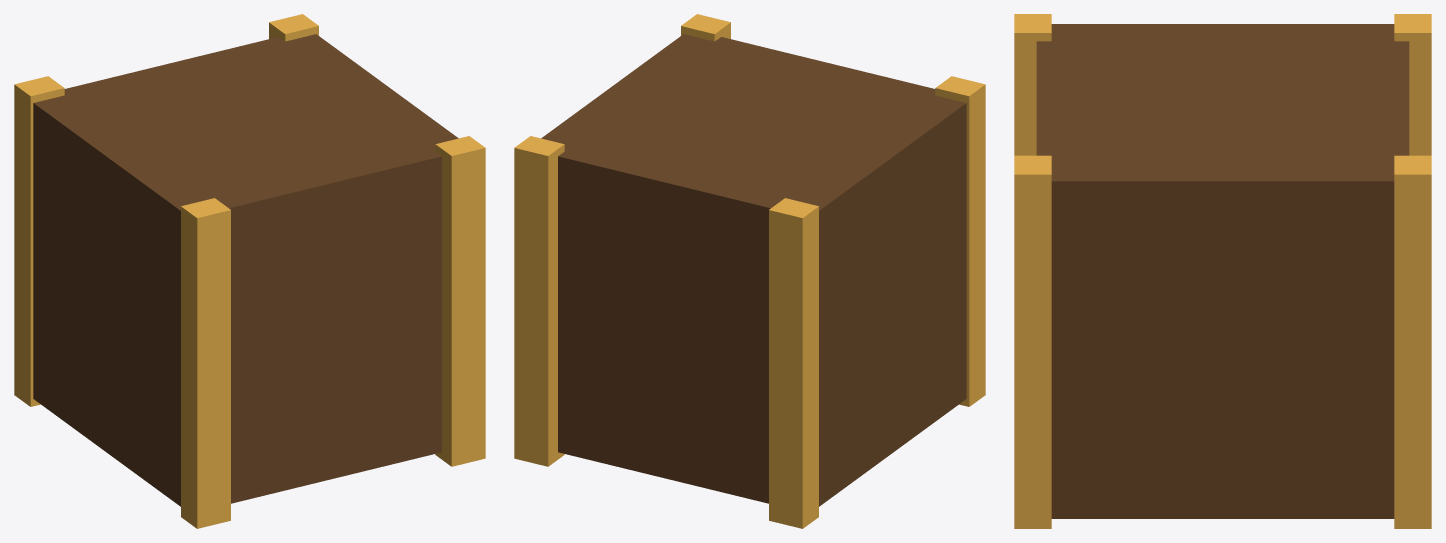
The model's file is crate.glb.
3 renders of one model, left to right at view 1: azimuth 30°, elevation 25°; view 2: azimuth 150°, elevation 25°; view 3: azimuth 270°, elevation 25°, orthographic. The views are drawn at different scales.
Parts seen in each view (by area): view 1: crate; view 2: crate; view 3: crate.
Part boxes in pixels (x1,y1,x2,y2): crate: (14, 14, 485, 528); crate: (514, 14, 985, 528); crate: (1014, 14, 1431, 528).
Size of the model in its own units: 1.02 by 1.05 by 1.12.
